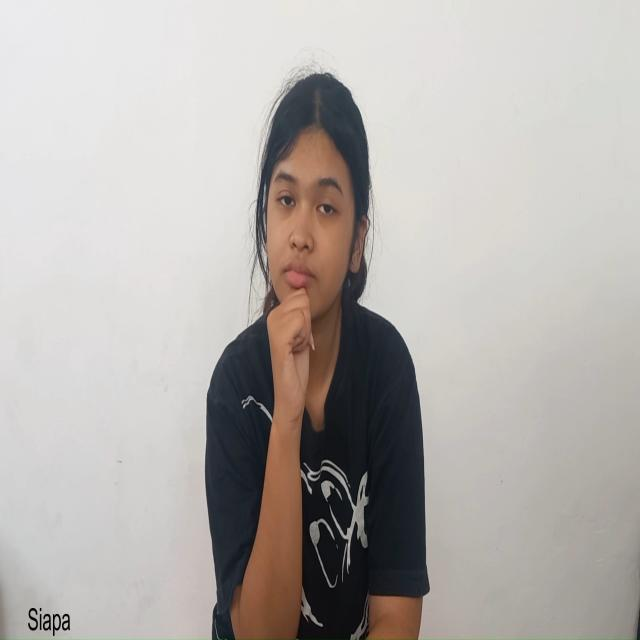Siapa -BISINDO-: (238, 63, 385, 436)
